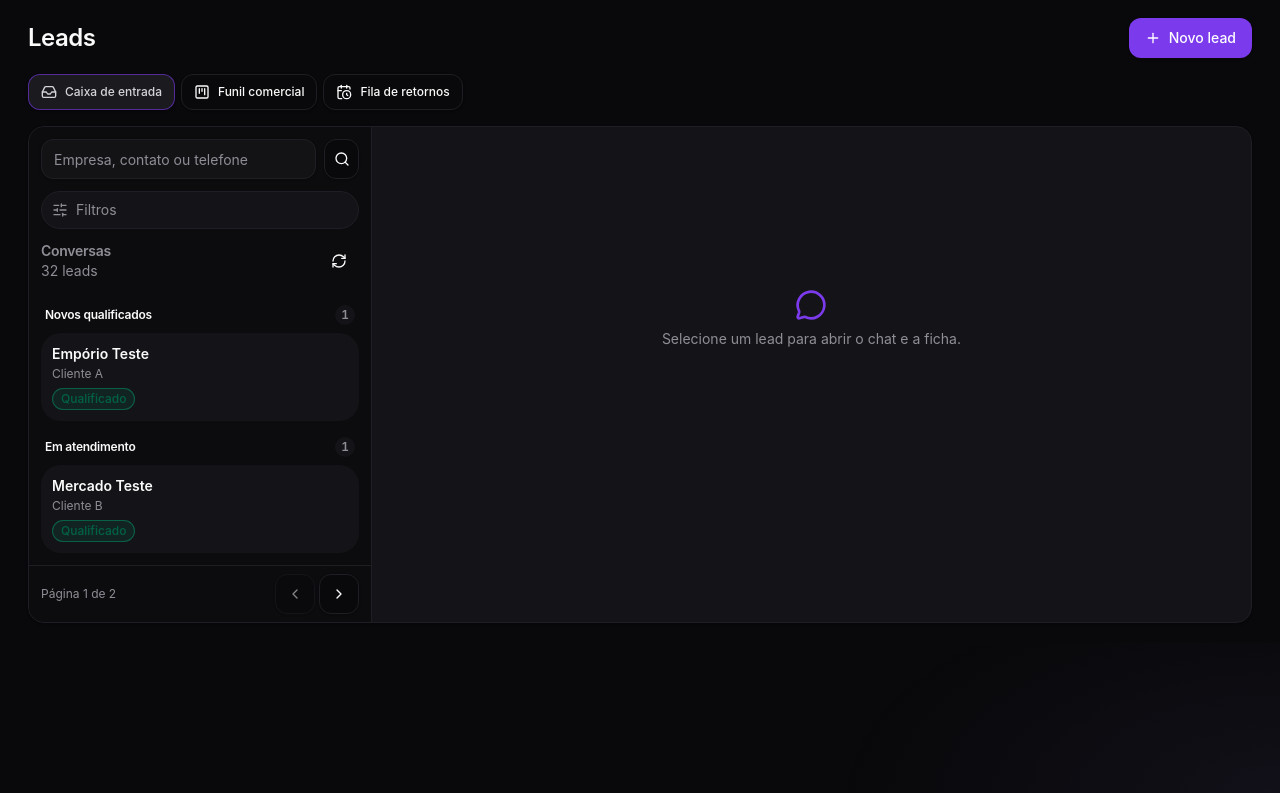
Test: troca a visualização, mantém o lead selecionado e nunca reaproveita a conversa de outro contato
Step 1. Click the button "Empório Teste Cliente A Qualificado" → (100, 354), box [41,333,359,421]
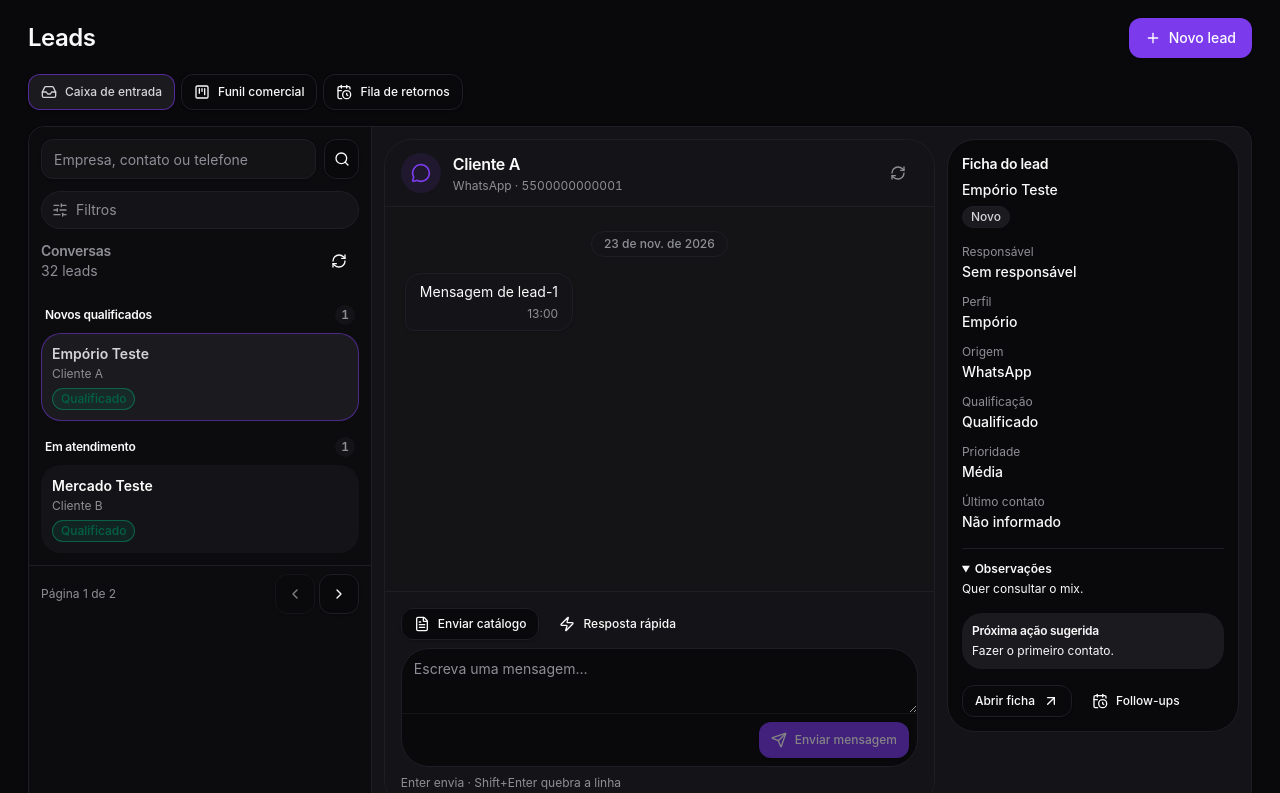
Now the text "Mensagem de lead-1" is shown, box [420,282,558,302]
Step 2. Click the button "Resposta rápida" → (618, 624), box [548,608,688,640]
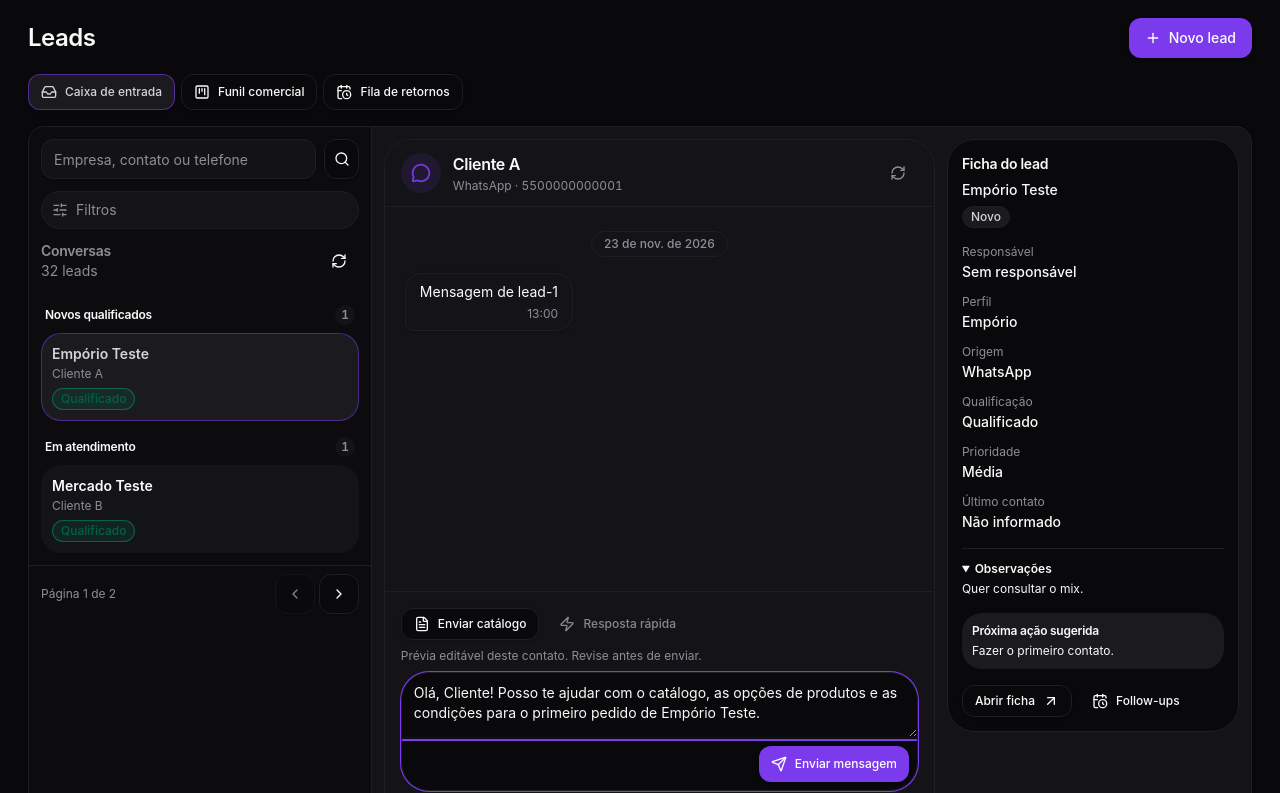
Step 3. Click the button "Funil comercial" → (249, 92), box [181,74,317,110]
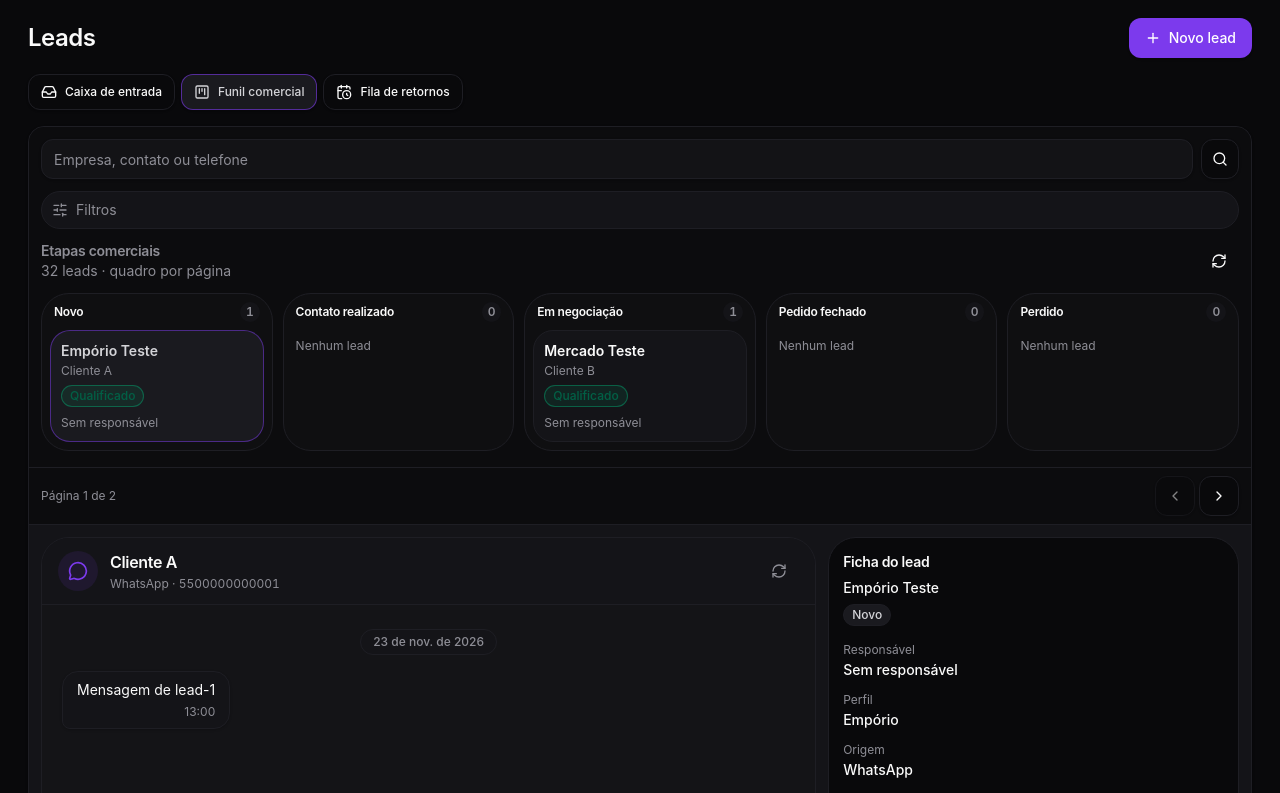
Now the text "Mensagem de lead-1" is shown, box [77,680,215,700]
Step 4. Click the button "Fila de retornos" → (393, 92), box [323,74,463,110]
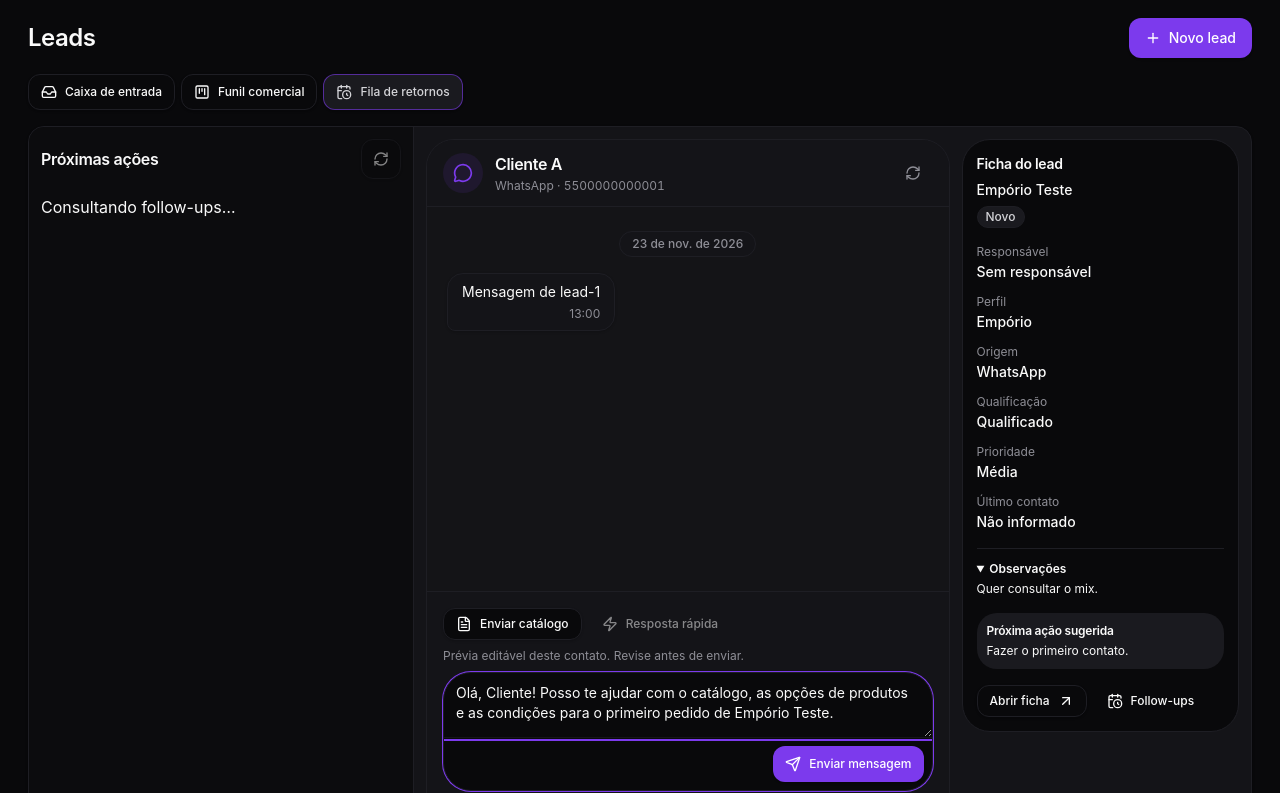
Now the text "Mensagem de lead-1" is shown, box [462,282,600,302]
Step 5. Click the button "Funil comercial" → (249, 92), box [181,74,317,110]
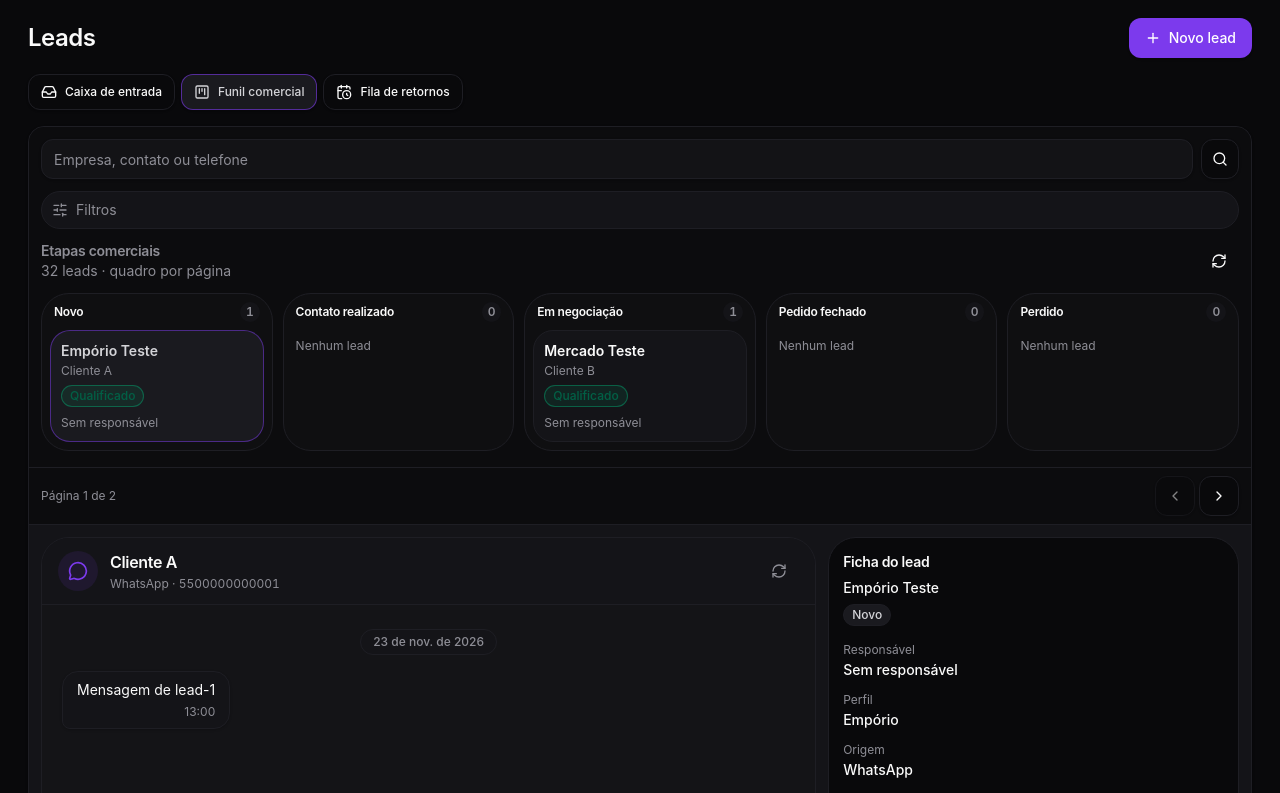
Step 6. Click the button "Mercado Teste Cliente B Qualificado Sem responsável" → (640, 386), box [533,330,747,442]
(page scrolled)
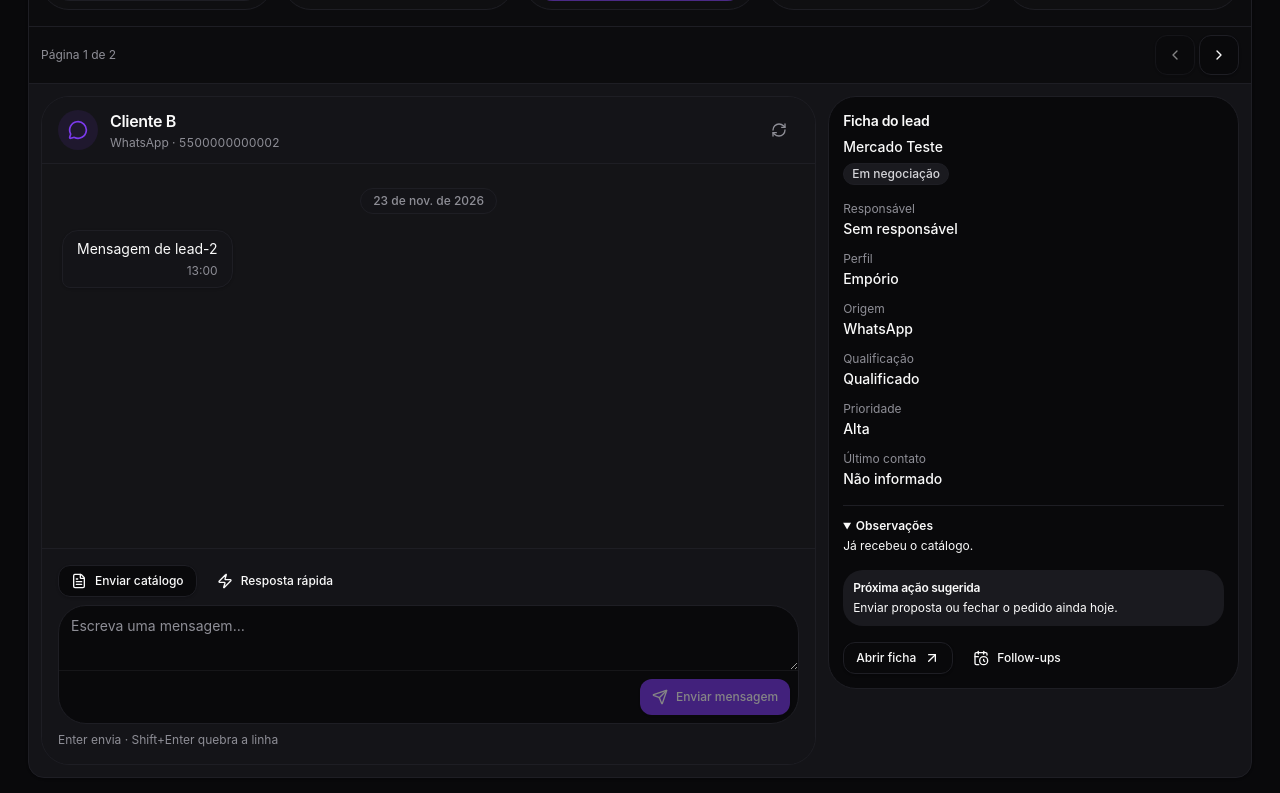
Now the text "Mensagem de lead-2" is shown, box [77,239,218,259]
Now the text "Mensagem de lead-1" is gone
Now the text box named "Sua mensagem" is empty, box [59,606,798,670]
